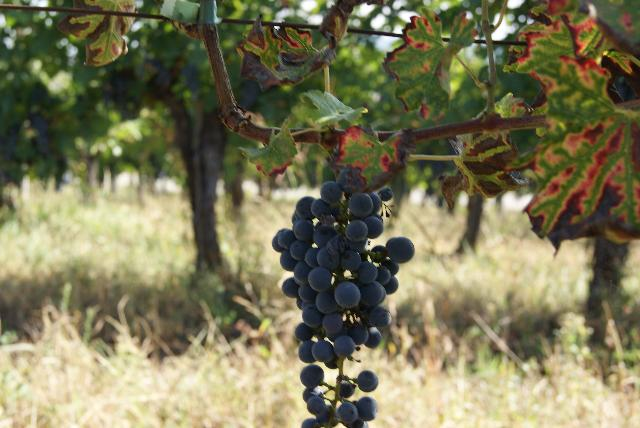grapes: (272, 176, 414, 428)
